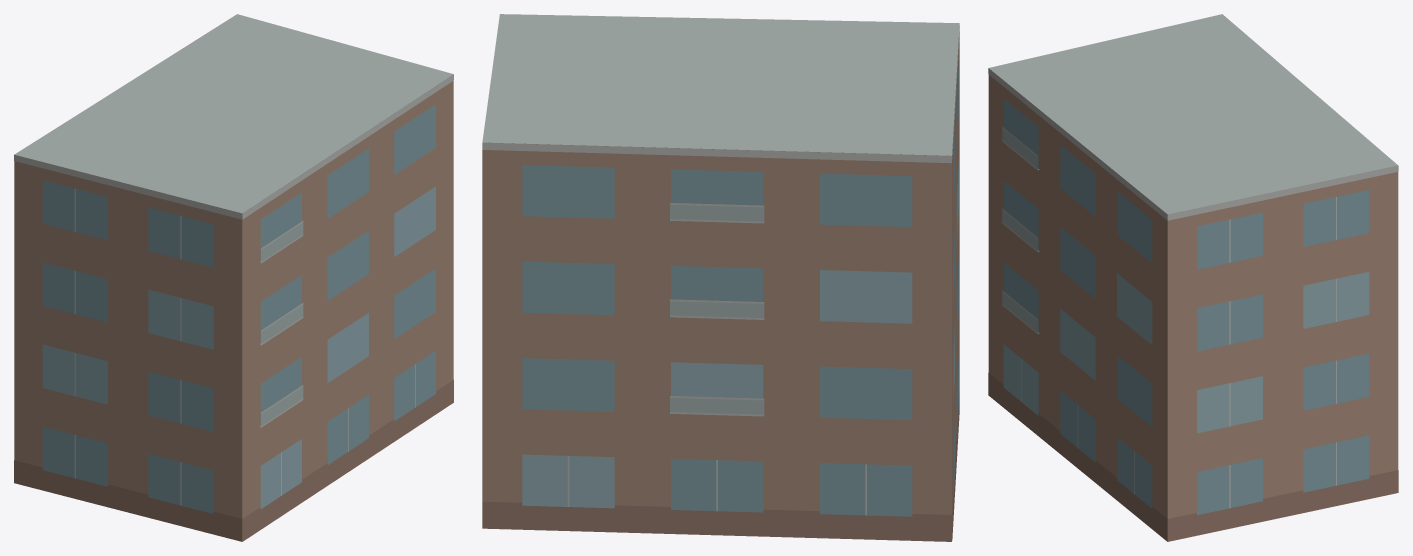
The model's file is survey-upis-32742424.glb.
The picture shows the model from 3 angles, left to right: view 1: azimuth 30°, elevation 25°; view 2: azimuth 150°, elevation 25°; view 3: azimuth 270°, elevation 25°; orthographic projection. The views are drawn at different scales.
Visible parts, largest first — view 1: survey-upis-32742424.tmp; view 2: survey-upis-32742424.tmp; view 3: survey-upis-32742424.tmp.
Part boxes in pixels (x1,y1,x2,y2): survey-upis-32742424.tmp: [14, 14, 453, 541]; survey-upis-32742424.tmp: [482, 14, 959, 541]; survey-upis-32742424.tmp: [988, 14, 1398, 541].
Size of the model in its own units: 16.82 by 12.8 by 14.54.
